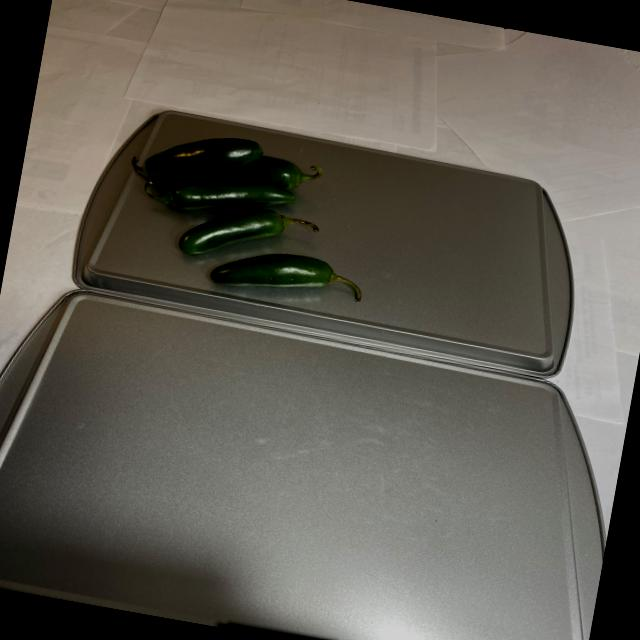chilli: (110, 119, 384, 318)
